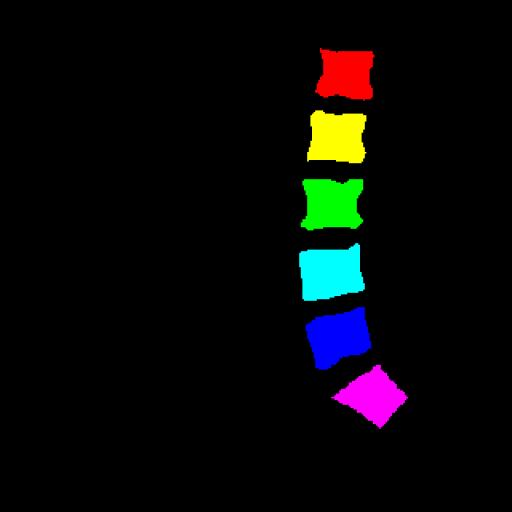L1: (315, 49, 373, 100)
L2: (307, 110, 366, 162)
L3: (301, 179, 363, 230)
L4: (299, 243, 365, 301)
L5: (306, 307, 371, 369)
S1: (332, 365, 407, 428)
